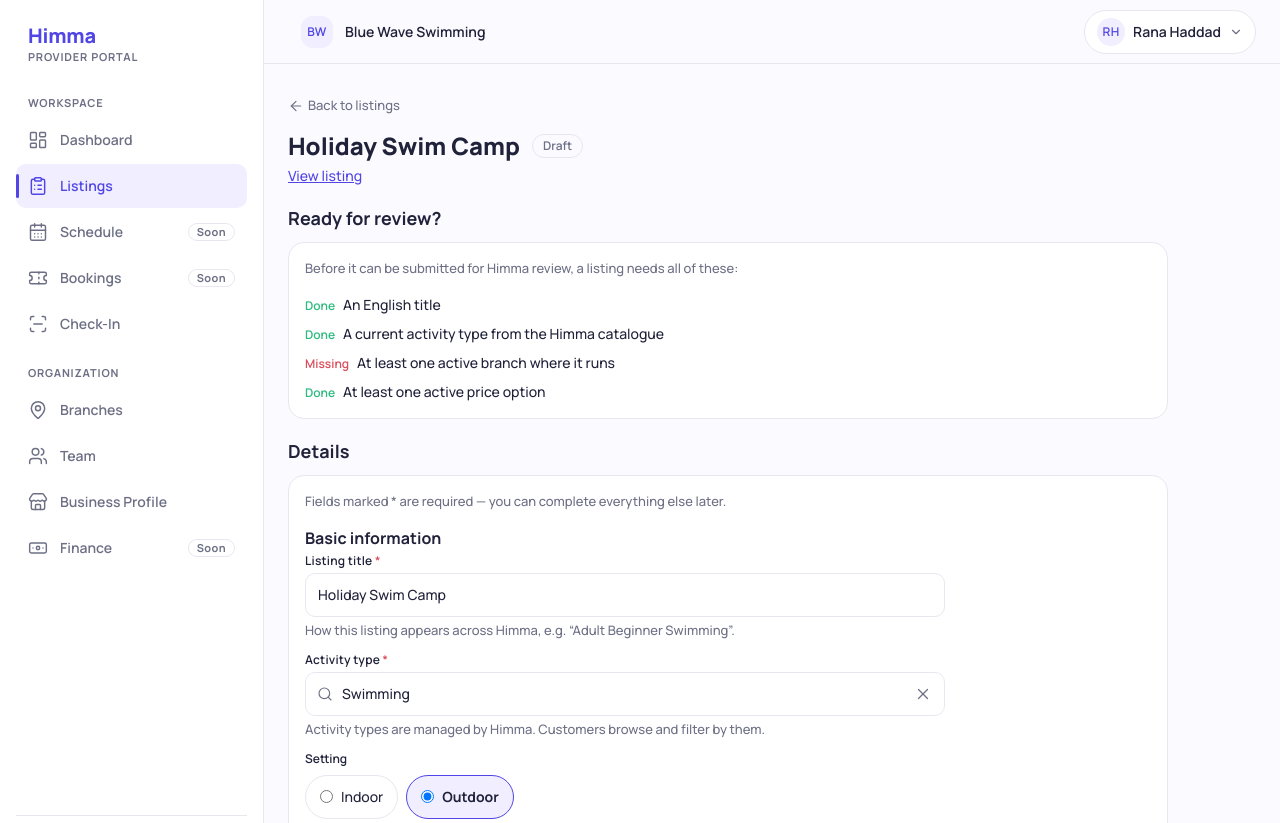
listing editor page (W2-8) › a stale program save NEVER overwrites: conflict surface with reload keeping the user’s values
Expected: the heading "Holiday Swim Camp" is shown, left=288, top=130, right=520, bottom=160
Replace the text in the field labelled "Listing title *" with "My Edited Title": (625, 594) left=305, top=572, right=945, bottom=616
(page scrolled)
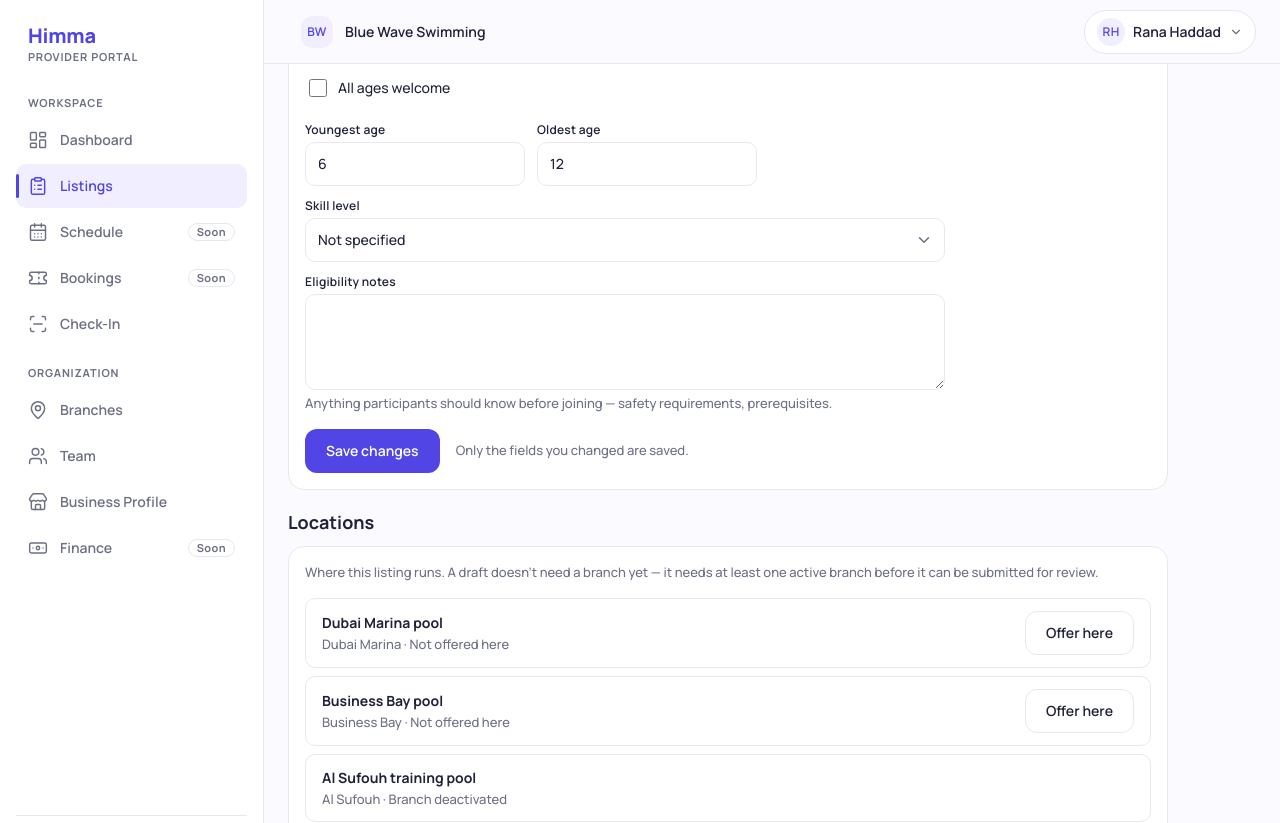
Click the button "Save changes": (372, 450) left=305, top=428, right=440, bottom=472
(page scrolled)
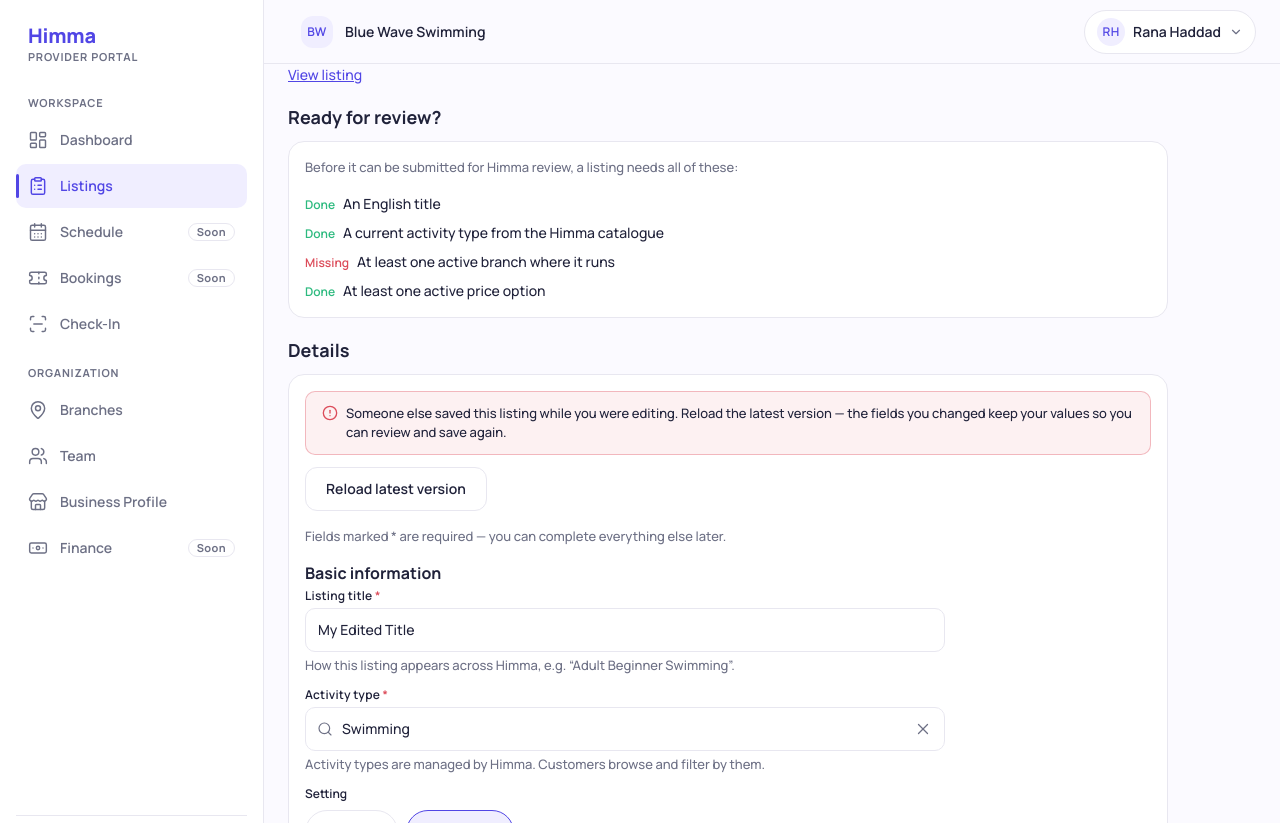
Result: the text "Someone else saved this listing while you were editing" is shown at left=346, top=404, right=1132, bottom=440
Click the button "Reload latest version": (396, 488) left=305, top=466, right=487, bottom=510
(page scrolled)
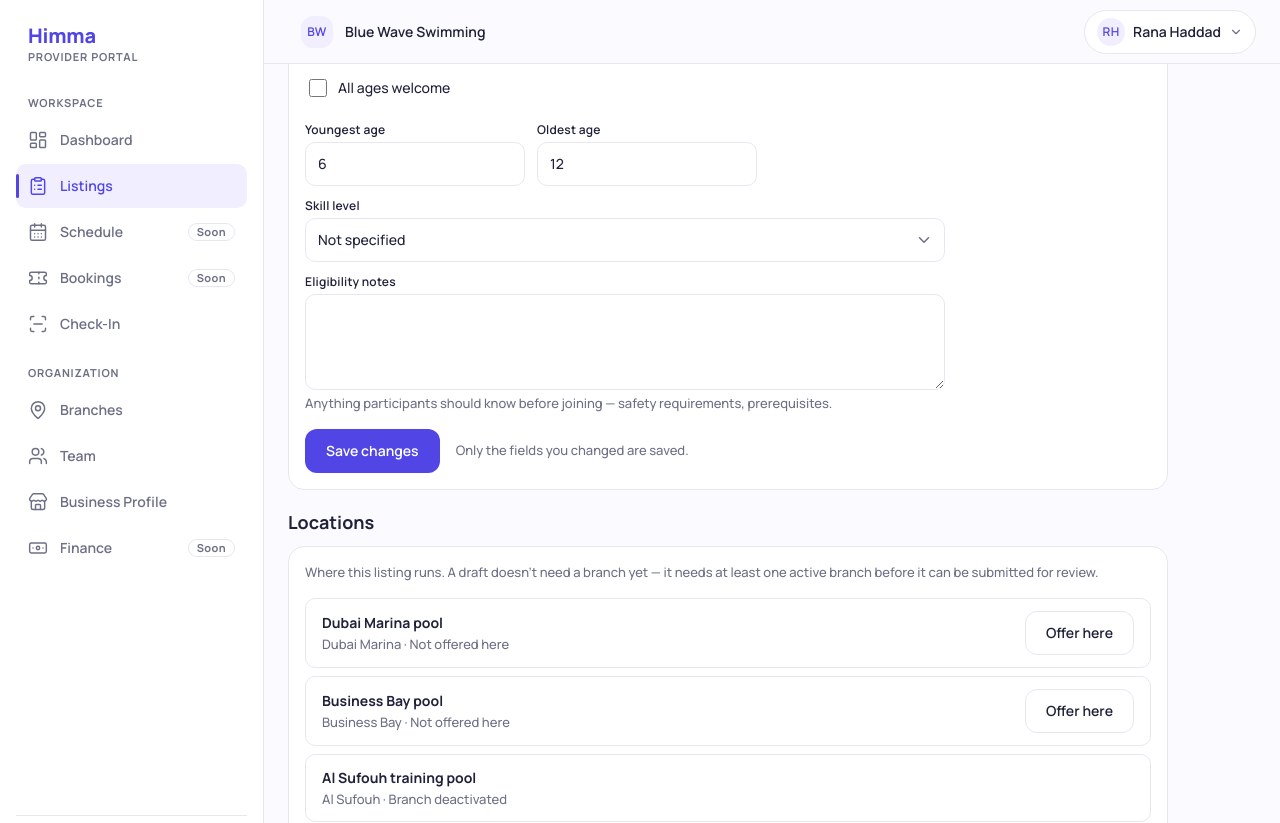
// And the next save applies cleanly against the fresh version.
Click the button "Save changes": (372, 450) left=305, top=428, right=440, bottom=472
(page scrolled)
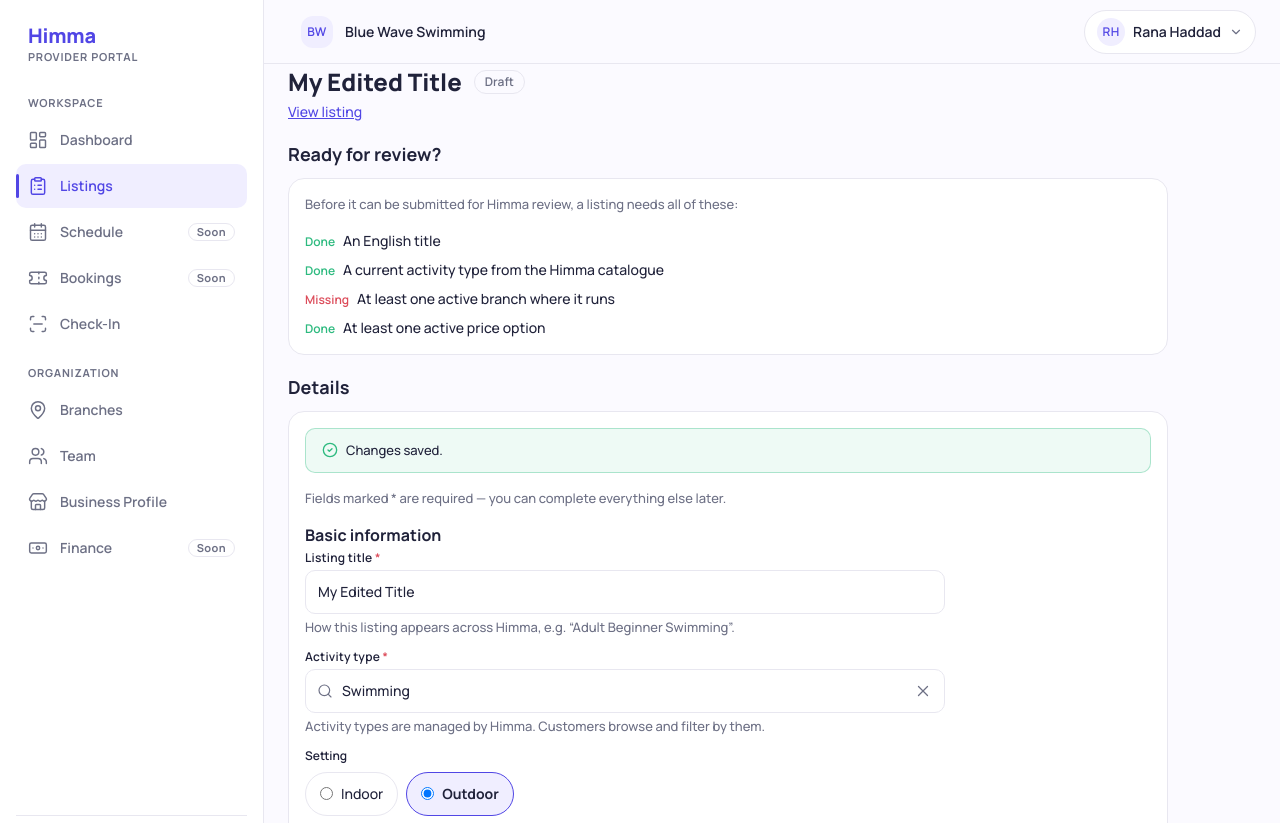
Result: the text "Changes saved." is shown at left=346, top=440, right=443, bottom=460
